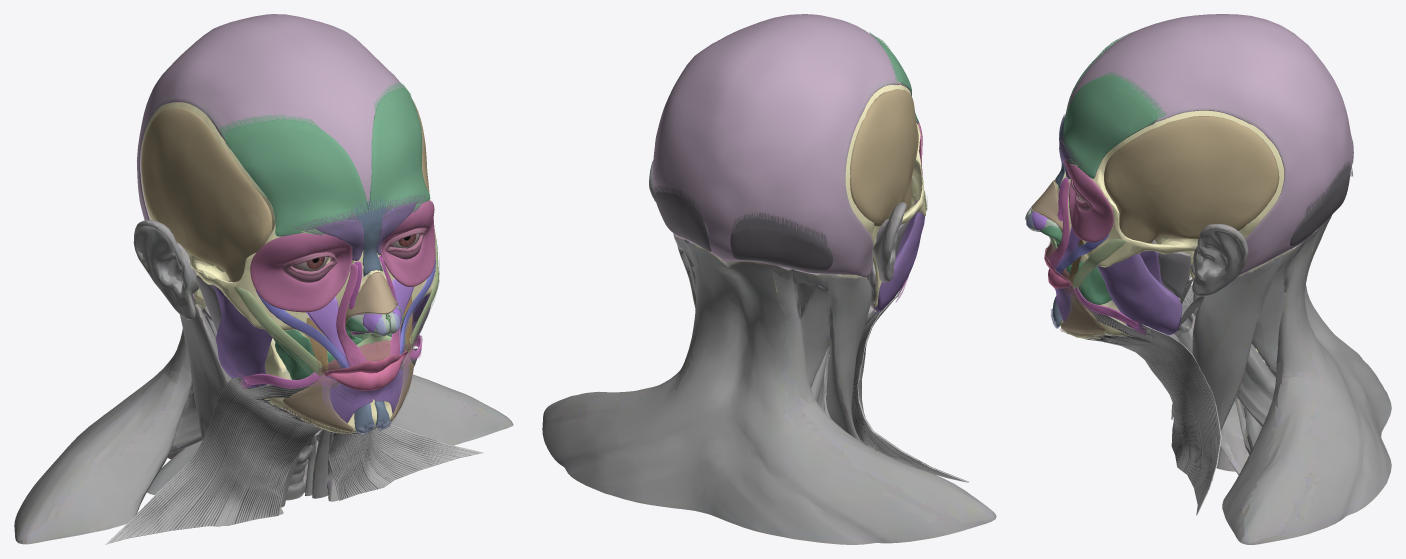
File: 头部肌肉_中性_已调色_std_opt.glb
The picture shows the model from 3 angles, left to right: view 1: azimuth 30°, elevation 25°; view 2: azimuth 150°, elevation 25°; view 3: azimuth 270°, elevation 25°; orthographic projection. The views are drawn at different scales.
Parts seen in each view (by area): view 1: Mesh_Deform_0, Mesh_(2)_Static_0, Mesh_(3)_(2)_Plastyma_0, Skiedras3DC; view 2: Mesh_(2)_Static_0, Mesh_Deform_0, Skiedras3DC, Mesh_(3)_(2)_Plastyma_0; view 3: Mesh_Deform_0, Mesh_(2)_Static_0, Mesh_(3)_(2)_Plastyma_0, Skiedras3DC.
Boxes of the visible parts, left/top/right/bottom form: Mesh_Deform_0: left=137, top=14, right=438, bottom=432; Mesh_(2)_Static_0: left=14, top=102, right=513, bottom=544; Mesh_(3)_(2)_Plastyma_0: left=105, top=348, right=483, bottom=544; Skiedras3DC: left=219, top=82, right=439, bottom=434; Mesh_(2)_Static_0: left=542, top=85, right=996, bottom=544; Mesh_Deform_0: left=652, top=14, right=926, bottom=313; Skiedras3DC: left=654, top=32, right=927, bottom=302; Mesh_(3)_(2)_Plastyma_0: left=828, top=283, right=968, bottom=482; Mesh_Deform_0: left=1025, top=14, right=1353, bottom=335; Mesh_(2)_Static_0: left=1054, top=110, right=1391, bottom=544; Mesh_(3)_(2)_Plastyma_0: left=1065, top=285, right=1221, bottom=515; Skiedras3DC: left=1047, top=31, right=1353, bottom=337.
Bounding box in the file's own units: 0.4403 × 0.4 × 0.3182.
Materials: 7 (5 with a texture image).
